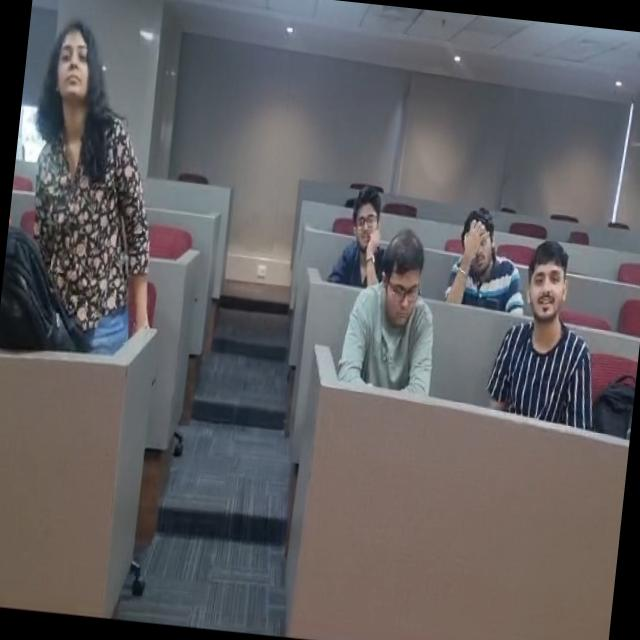cheating: (0, 20, 181, 370), (488, 243, 612, 435), (437, 208, 531, 314), (314, 174, 396, 291)
non-cheating: (346, 257, 456, 401)
